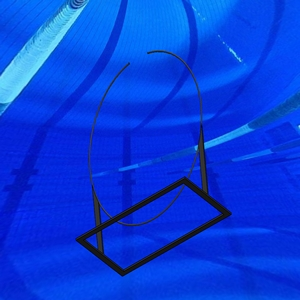circle: (75, 49, 233, 279)
